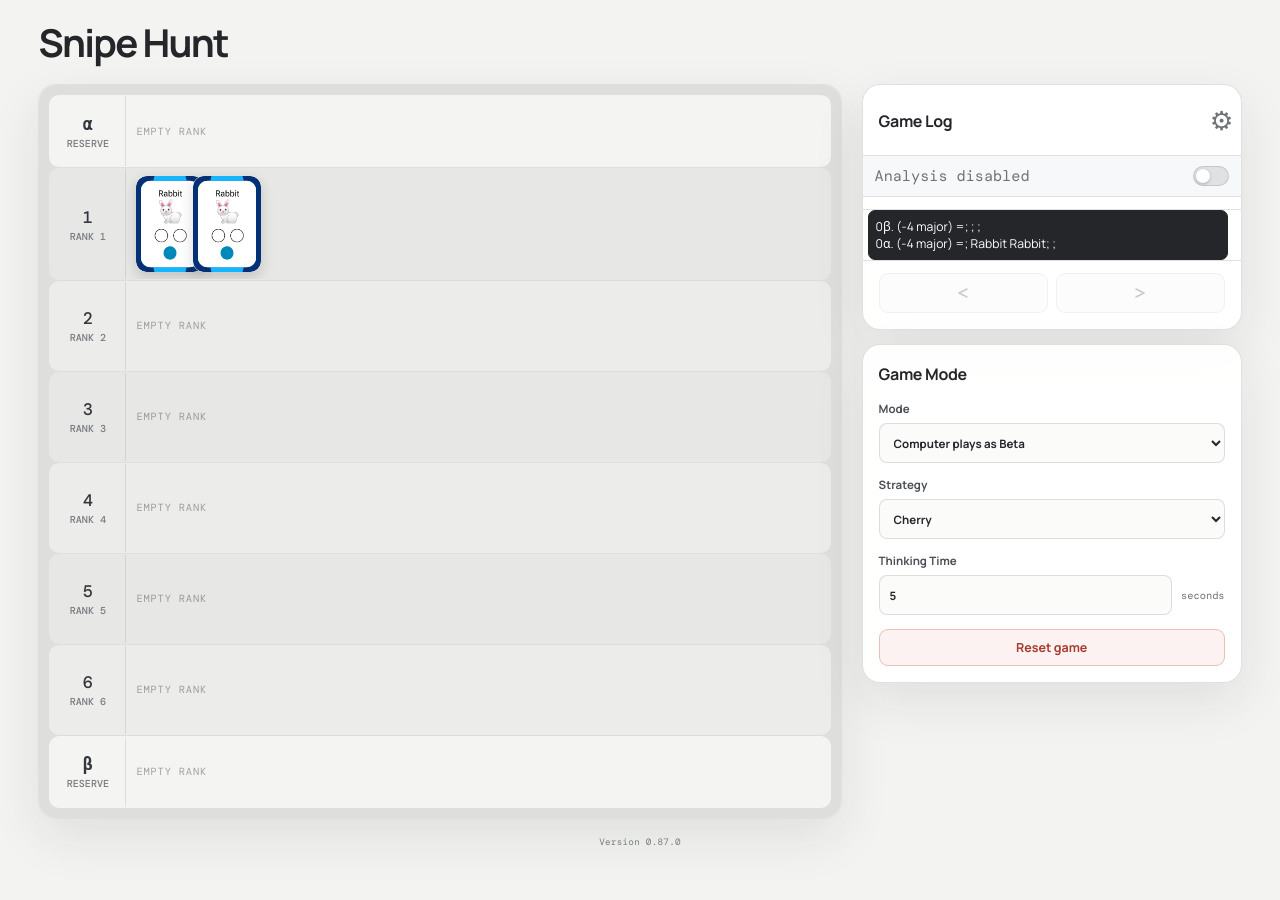
it: overlays › commits analysis time before an outside interaction closes settings
Click the button named "Game Log settings" at (1222, 120), box [1203,101,1241,139]
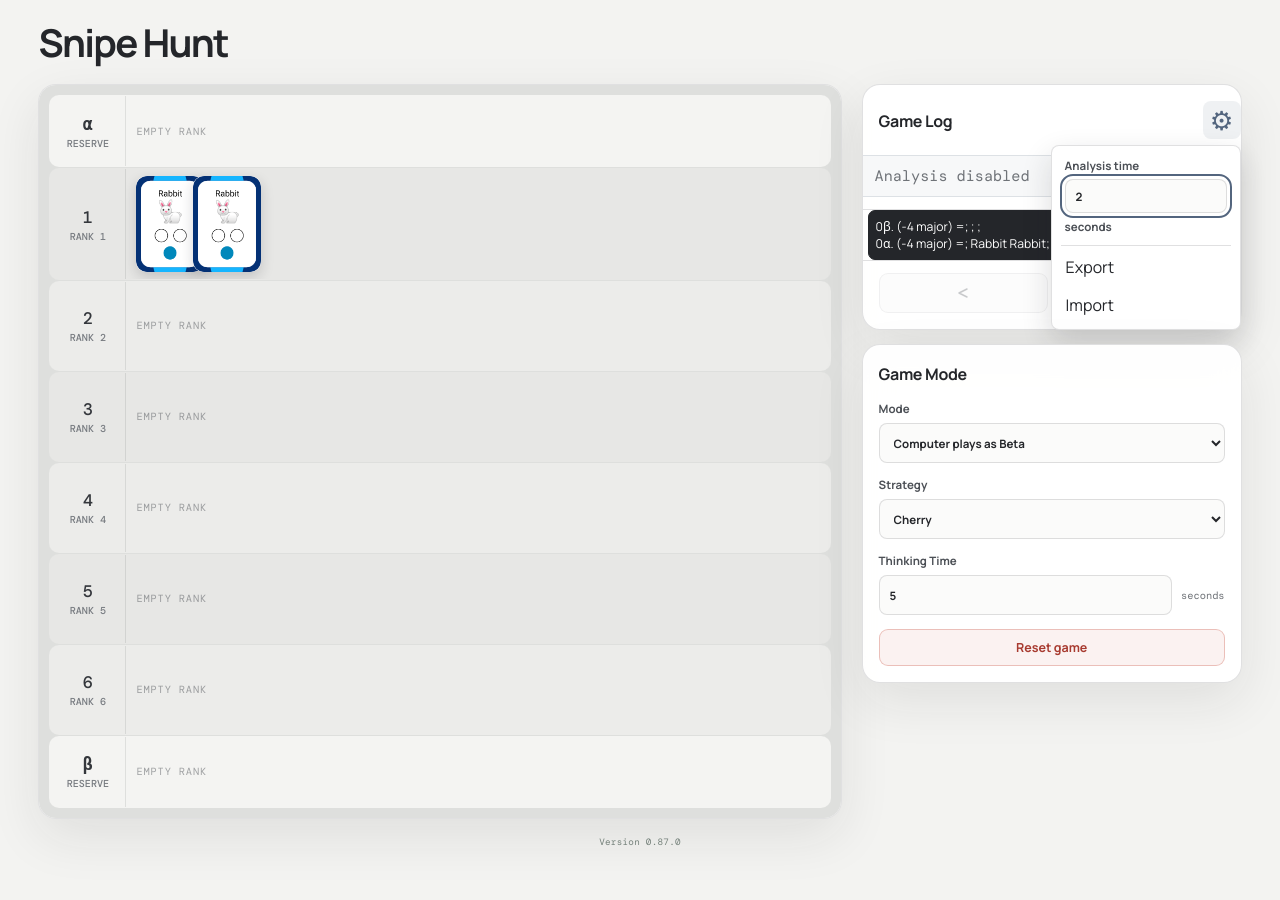
Replace the text in the field labelled "Analysis time" with "7" at (1146, 196), box [1065,179,1227,213]
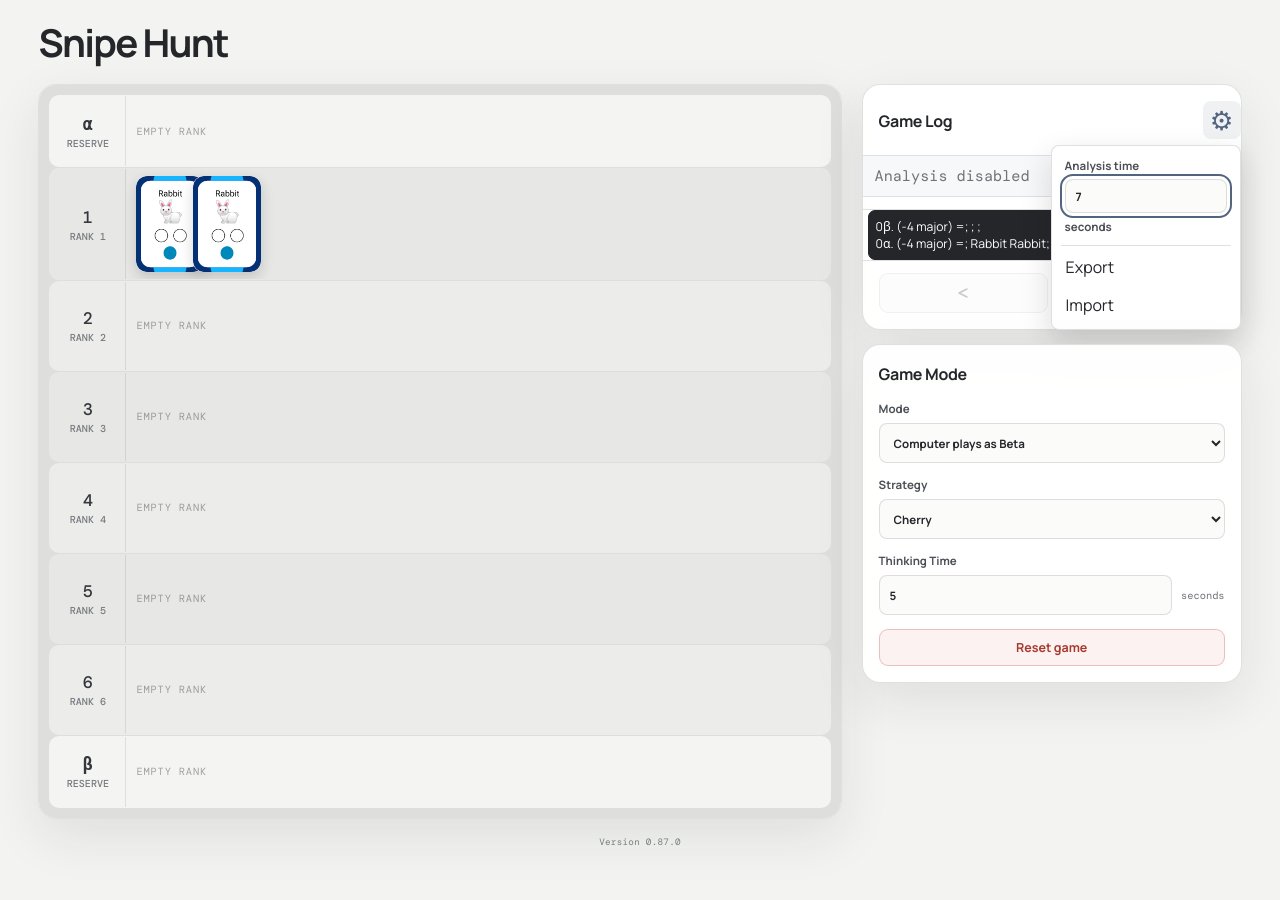
Press the mouse on the element that starts with "Snipe Hunt" at (640, 450), box [0,0,1279,899]
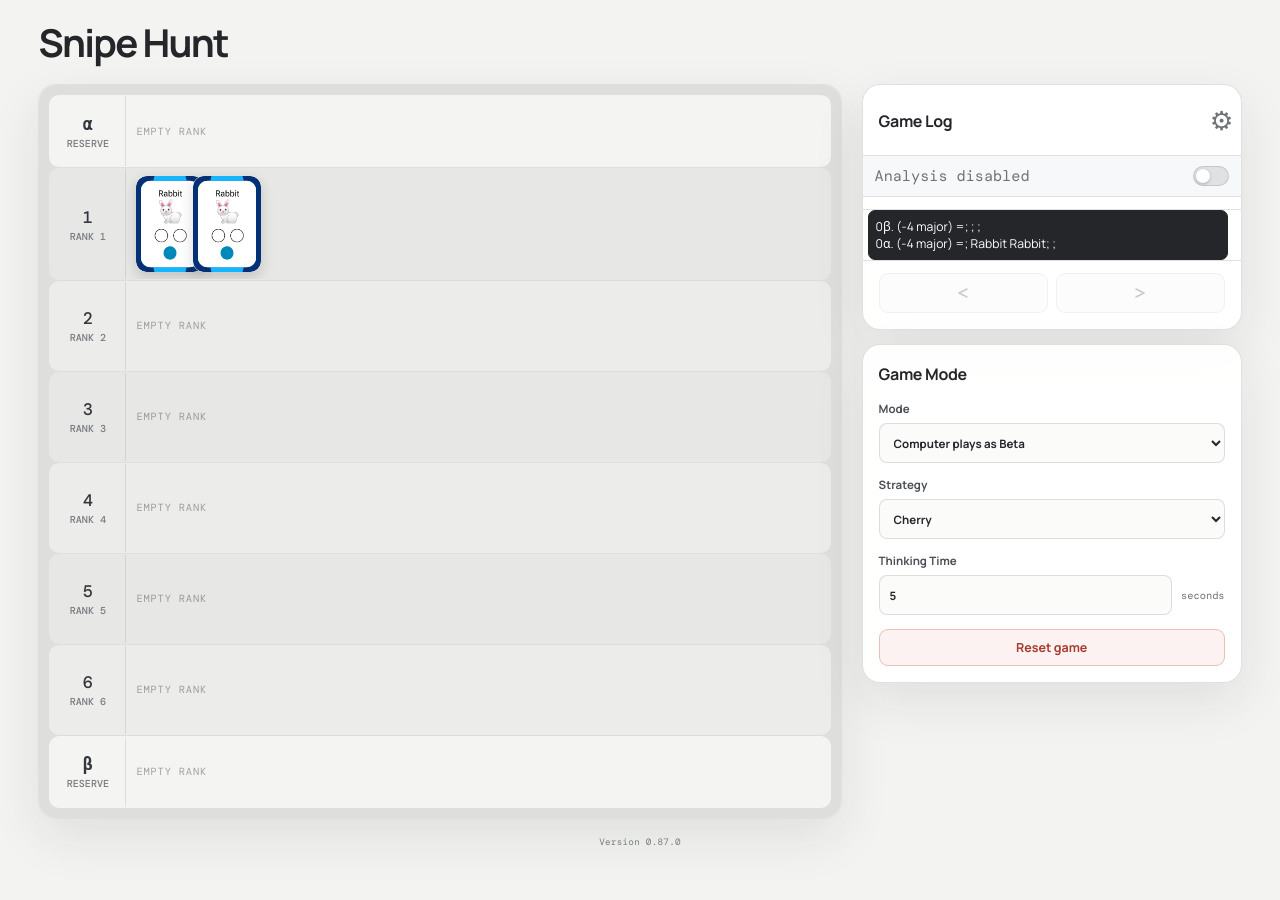
Click the button named "Game Log settings" at (1222, 120), box [1203,101,1241,139]
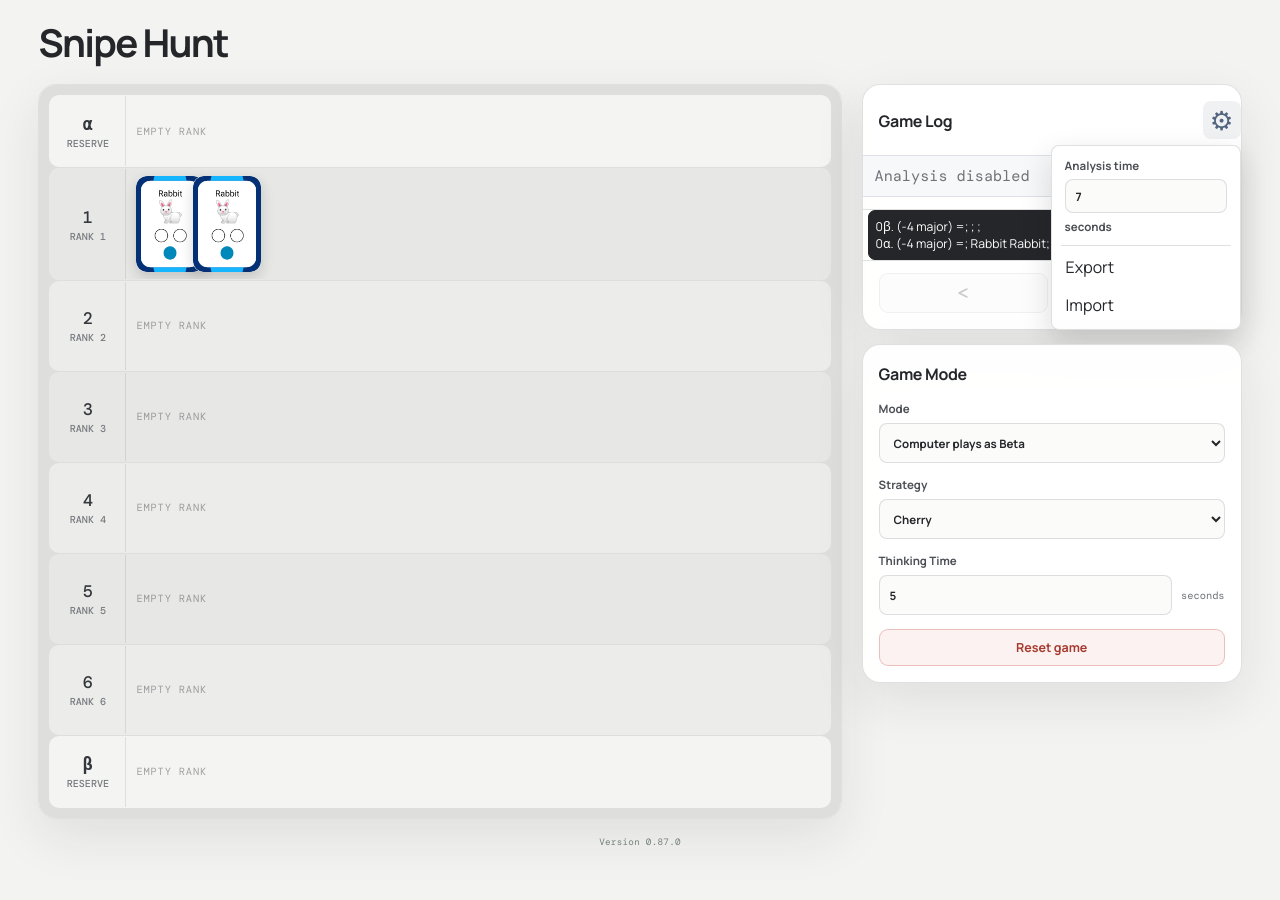
Expected: the field labelled "Analysis time" holds "7", [1065,179,1227,213]
